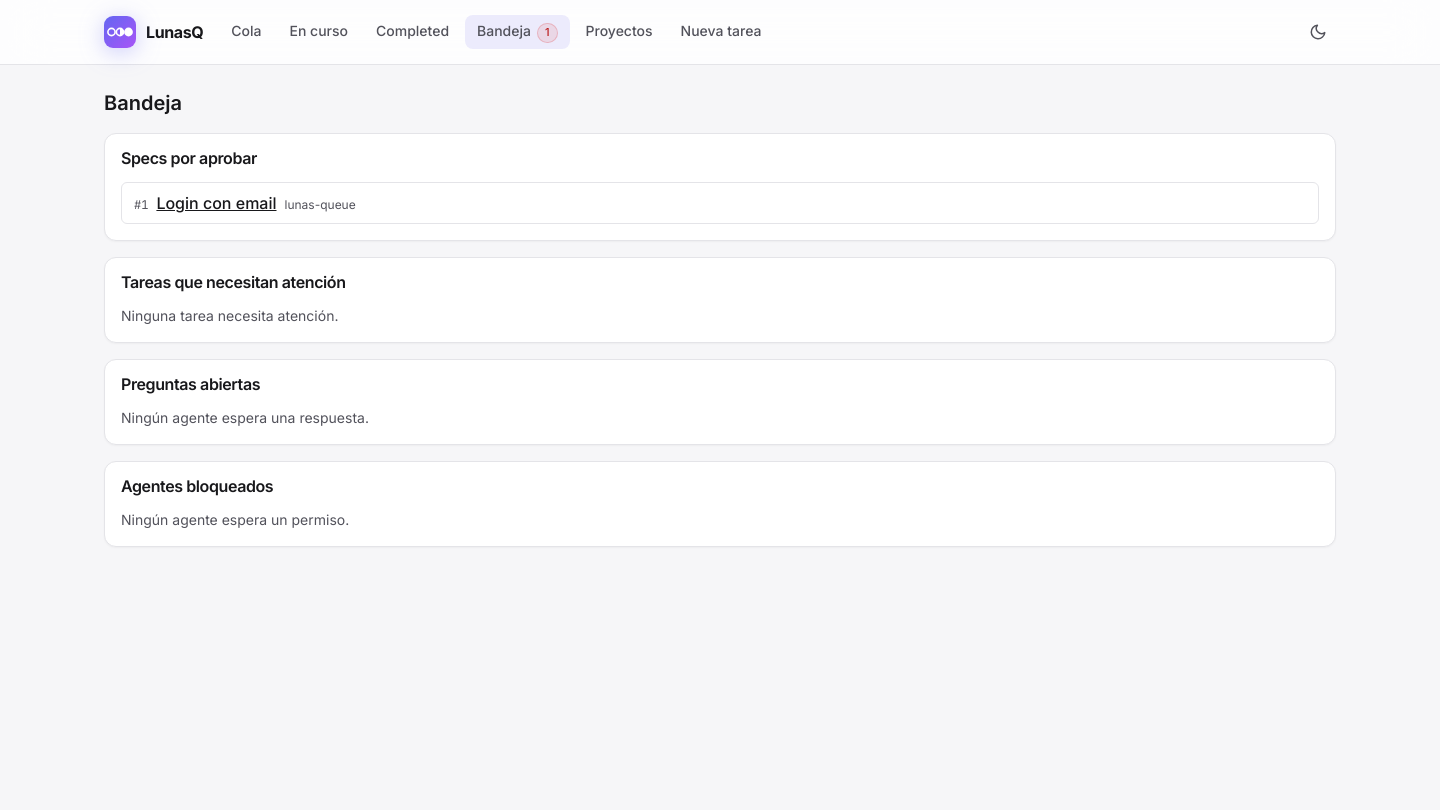
Test: bandeja › el enlace de la spec lleva al detalle de la tarea con su gate
What coordinates should you click on to do the following:
click the link "Login con email"
I would click on:
 (216, 203)
Its box is [156,191,276,215].
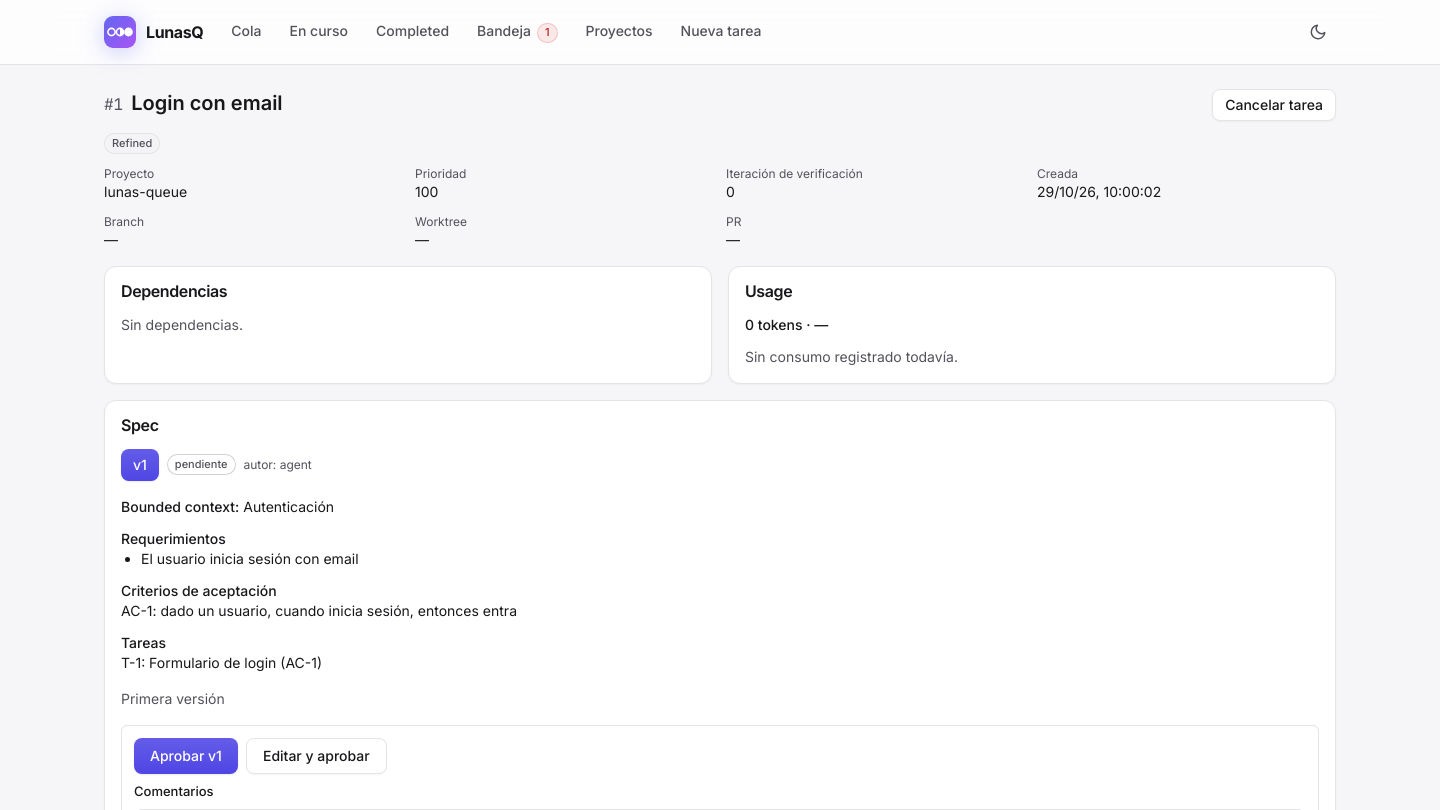
Now the heading "Login con email" is shown, box [131,89,283,117]
Now the list item "AC-1: dado un usuario, cuando inicia sesión, entonces entra" is shown, box [121,602,517,618]
Now the button "Aprobar v1" is shown, box [134,738,238,774]
